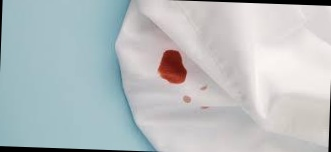blood: (156, 49, 188, 85)
